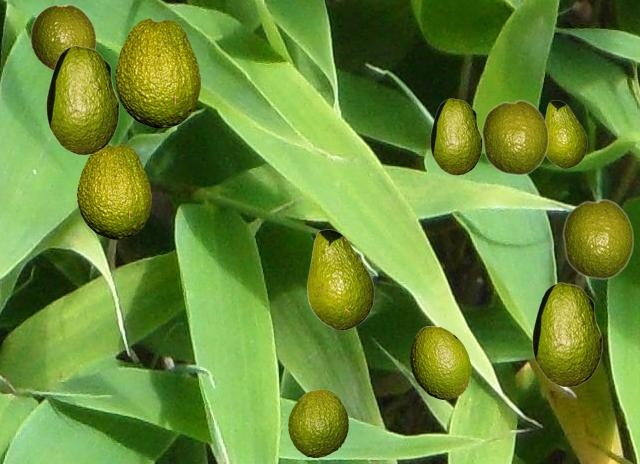avocado: (115, 18, 199, 127), (46, 45, 118, 154), (532, 282, 601, 386), (77, 144, 150, 238), (307, 229, 373, 329), (562, 198, 633, 279), (481, 99, 548, 175), (30, 4, 96, 71), (410, 326, 470, 398), (288, 389, 347, 456), (430, 98, 481, 174), (545, 100, 586, 167)
